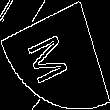M_E: (30, 25, 80, 85)
